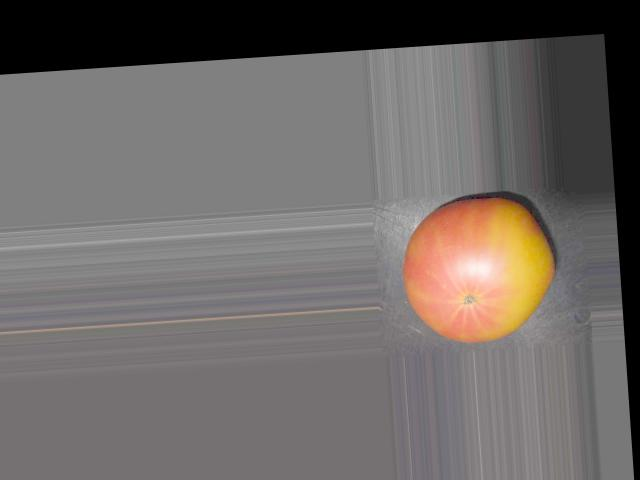tomato: (398, 192, 557, 346)
